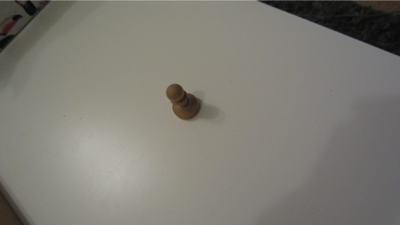white-pawn: (164, 83, 201, 121)
